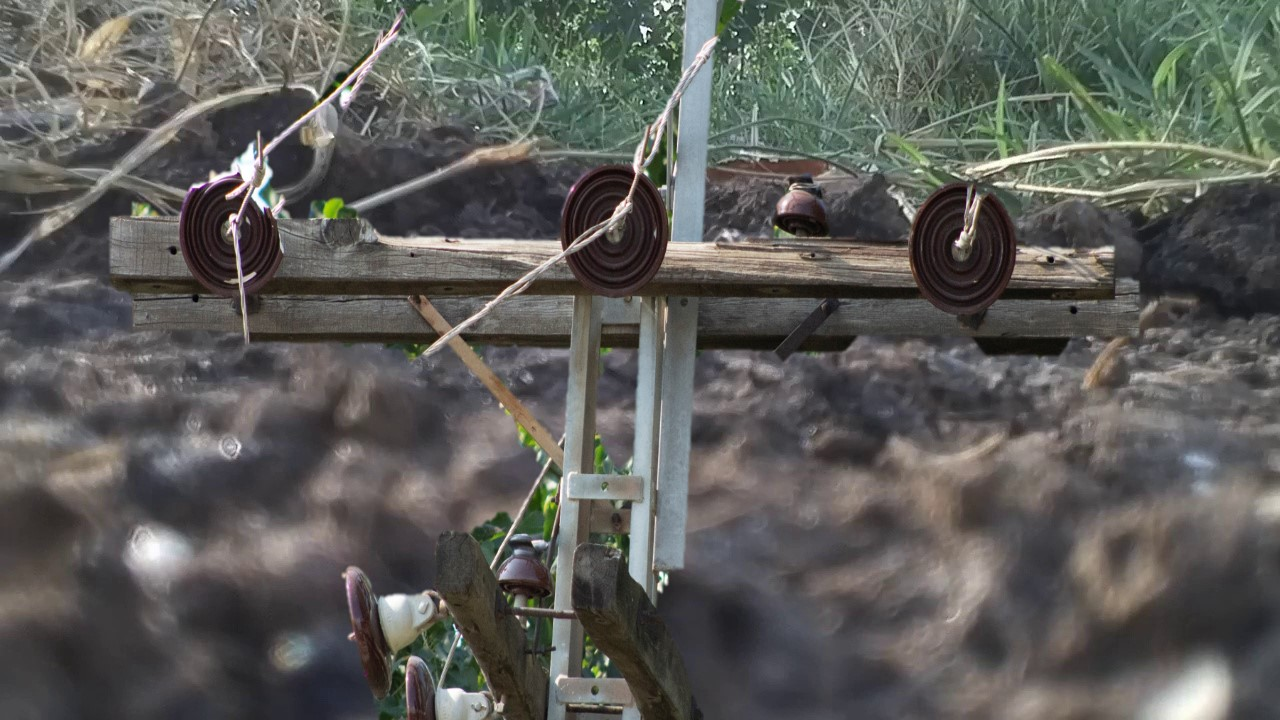defect_disc: (179, 170, 291, 307)
insulator_disc: (557, 159, 671, 305), (906, 181, 1023, 322), (337, 561, 403, 697)
insulator_pin: (772, 172, 833, 241), (494, 532, 555, 601)
